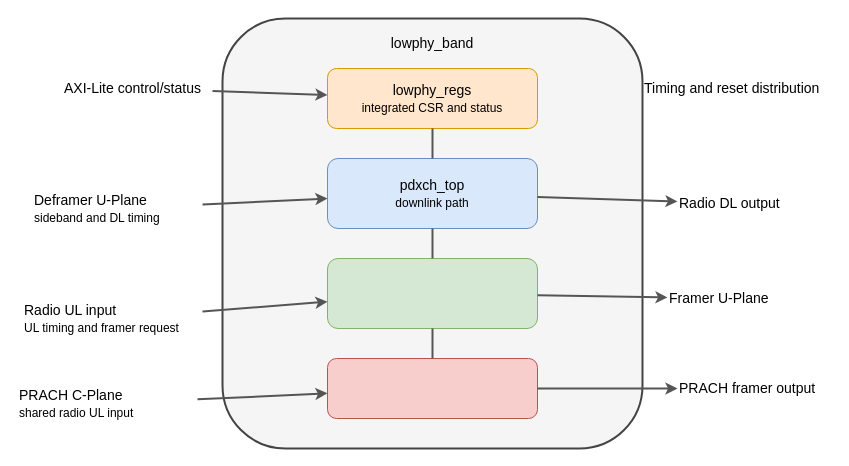
Some shapes in this 849 by 466 pixel diagram are drawn without their labels. The centre of each missing label's shape, as x and y in pixels:
"prach_top PRACH path" belongs at point (432, 388).
"puxch_top uplink path" belongs at point (432, 293).
